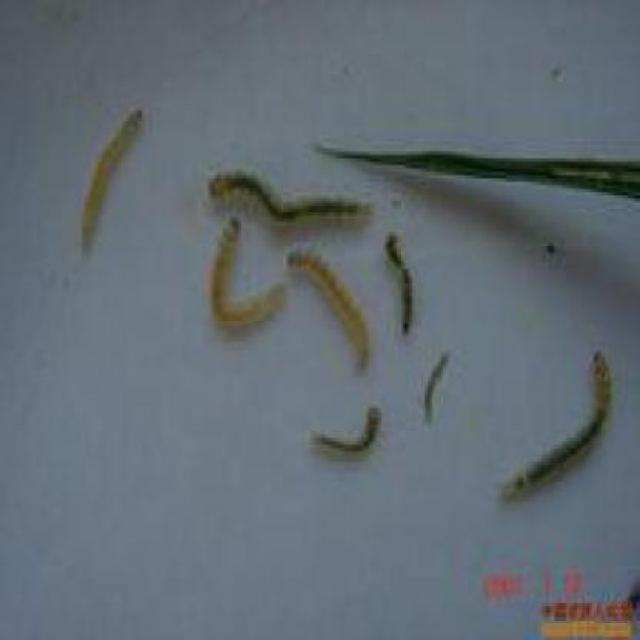leaf-folder: (492, 320, 623, 518), (274, 239, 386, 383), (60, 86, 155, 248), (197, 154, 380, 237), (194, 214, 300, 331), (299, 396, 406, 484), (416, 332, 466, 448), (381, 214, 417, 358)
